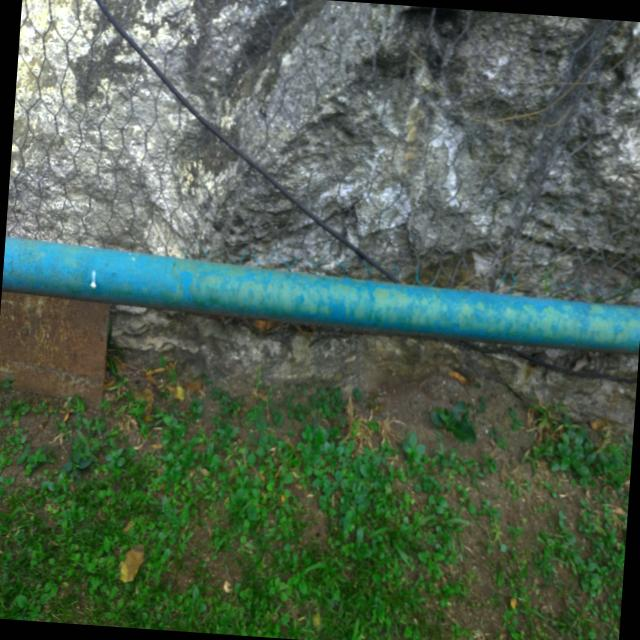gas: (2, 233, 640, 346)
